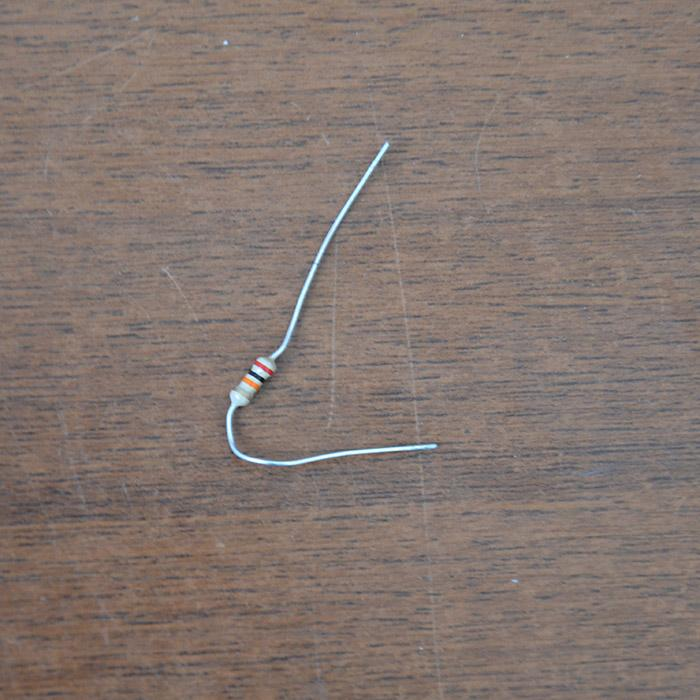resistor: (229, 353, 277, 408)
